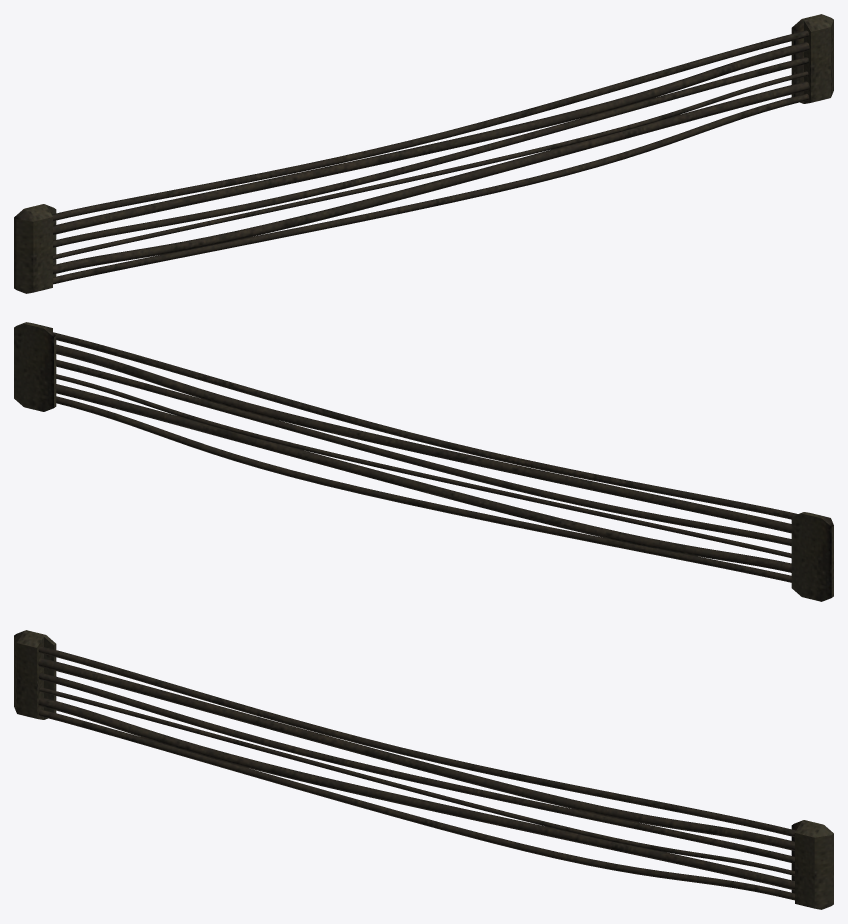
The model's file is wires_hr_1.obj.
3 renders of one model, top to bottom at view 1: azimuth 30°, elevation 25°; view 2: azimuth 150°, elevation 25°; view 3: azimuth 330°, elevation 25°, orthographic.
Parts seen in each view (by area): view 1: wires_hr_1; view 2: wires_hr_1; view 3: wires_hr_1.
Part boxes in pixels (box(x1,y1,x2,y2)): wires_hr_1: box(14, 14, 833, 293); wires_hr_1: box(14, 322, 833, 601); wires_hr_1: box(14, 630, 833, 909).
Size of the model in its own units: 4.1 by 0.4469 by 0.08.
